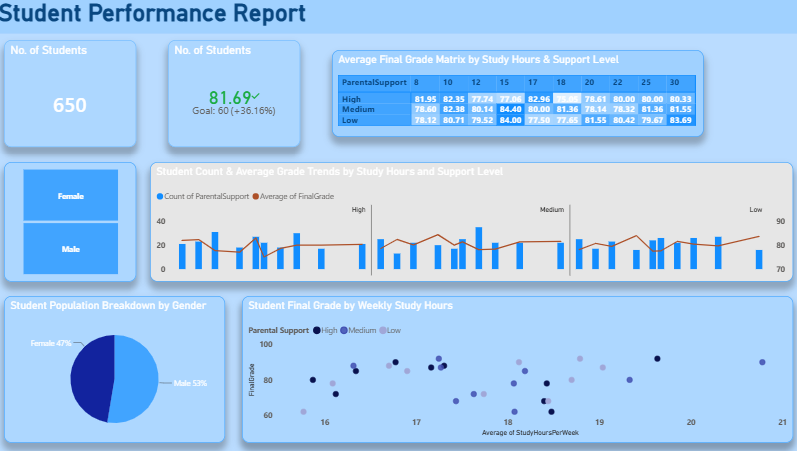

The dashboard page shown, as its layout file describes it:
{"tool":"powerbi","page":{"name":"Student Performance Report","canvas":[1280,720],"ordinal":0},"visuals":[{"type":"textbox","title":"Student Performance Report","box":[0,0,1282.5,55.6],"z":0},{"type":"shape","box":[0,55.4,1280.4,664.3],"z":1000},{"type":"cardVisual","title":"No. of Students","fields":{"Data":["Count(Student Performance.StudentID)"]},"box":[14.3,66.7,209.5,169.8],"z":5000},{"type":"pieChart","title":"Student Population Breakdown by Gender","fields":{"Category":["Student Performance.Gender"],"Y":["CountNonNull(Student Performance.StudentID)"]},"box":[14.3,473,350.8,233.3],"z":6000},{"type":"lineClusteredColumnComboChart","title":"Student Count & Average Grade Trends by Study Hours and Support Level","fields":{"Category":["Student Performance.StudyHoursPerWeek"],"Y":["CountNonNull(Student Performance.ParentalSupport)"],"Y2":["Avg(Student Performance.FinalGrade)"],"Rows":["Student Performance.ParentalSupport"]},"box":[246,260.3,1020.6,190.5],"z":7000},{"type":"scatterChart","title":"Student Final Grade by Weekly Study Hours","fields":{"Y":["Student Performance.FinalGrade"],"X":["Avg(Student Performance.StudyHoursPerWeek)"],"Series":["Student Performance.ParentalSupport"]},"box":[392.1,473,874.6,233.3],"z":8000},{"type":"slicer","fields":{"Values":["Student Performance.Gender"]},"box":[14.3,259.5,209.5,190.5],"z":8001},{"type":"pivotTable","title":"Average Final Grade Matrix by Study Hours & Support Level","fields":{"Rows":["Student Performance.ParentalSupport"],"Columns":["Student Performance.StudyHoursPerWeek"],"Values":["Avg(Student Performance.FinalGrade)"]},"box":[534.9,82.5,590.5,138.1],"z":8002},{"type":"kpi","title":"No. of Students","fields":{"Indicator":["Avg(Student Performance.FinalGrade)"],"TrendLine":["Student Performance.StudyHoursPerWeek"],"Goal":["Student Performance.Target Grade"]},"box":[274.6,66.7,209.5,169.8],"z":8003}]}

Visuals, with their boxes in screenshot pixels (x1, y1, x2, y2), scaled from the page's 1280x720 canvas onto the 797x451 screenshot:
"Student Performance Report" textbox: [0, 0, 796, 35]
shape: [0, 35, 796, 450]
"No. of Students" cardVisual: [9, 42, 139, 148]
"Student Population Breakdown by Gender" pieChart: [9, 296, 227, 442]
"Student Count & Average Grade Trends by Study Hours and Support Level" lineClusteredColumnComboChart: [153, 163, 789, 282]
"Student Final Grade by Weekly Study Hours" scatterChart: [244, 296, 789, 442]
slicer - Student Performance.Gender: [9, 163, 139, 282]
"Average Final Grade Matrix by Study Hours & Support Level" pivotTable: [333, 52, 701, 138]
"No. of Students" kpi: [171, 42, 301, 148]
